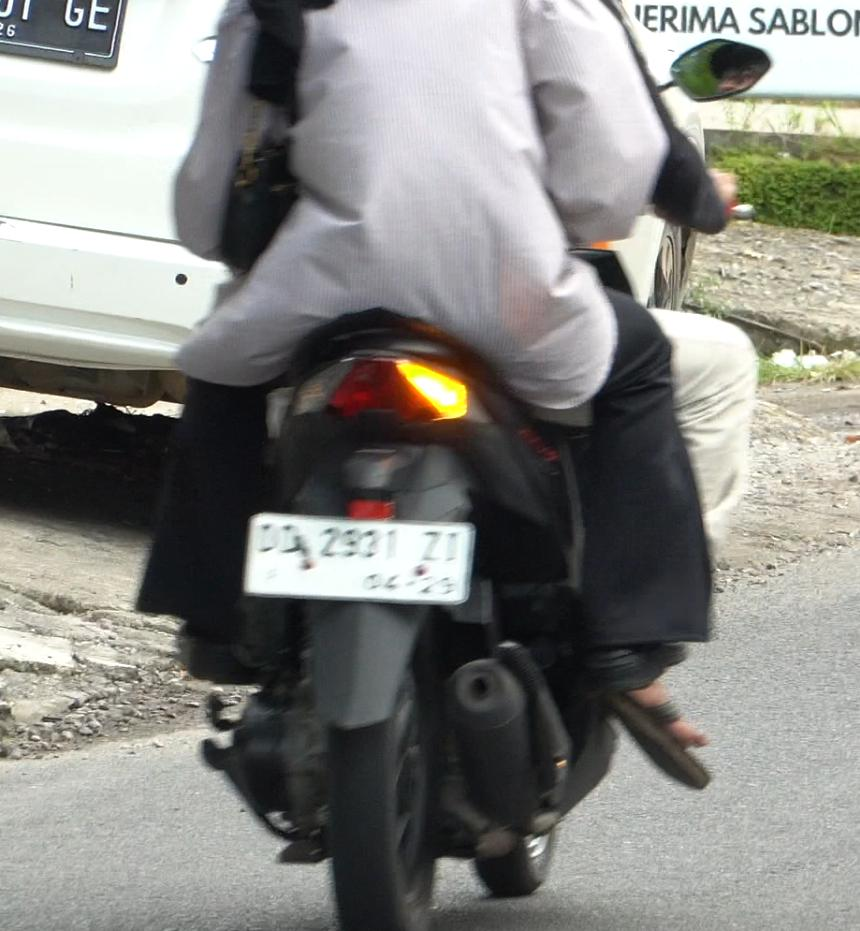number-plate: (239, 513, 480, 605)
